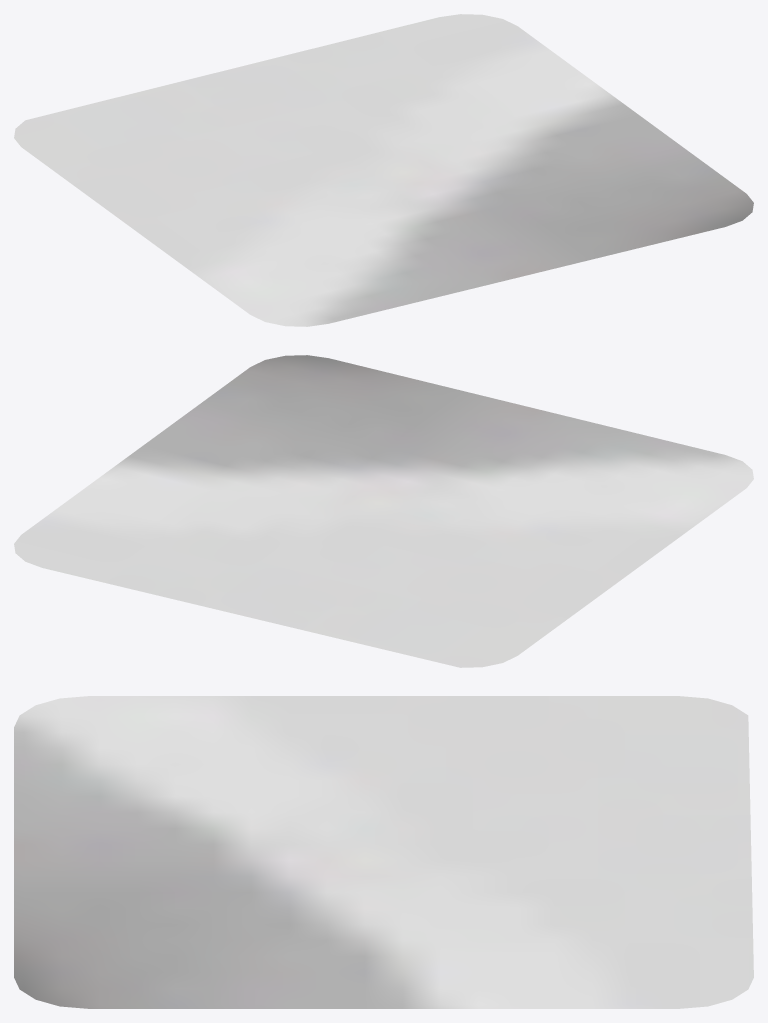
The model's file is Prop_Grid.fbx.
3 renders of one model, top to bottom at view 1: azimuth 30°, elevation 25°; view 2: azimuth 150°, elevation 25°; view 3: azimuth 270°, elevation 25°, orthographic. The views are drawn at different scales.
Parts seen in each view (by area): view 1: Prop_Grid.001; view 2: Prop_Grid.001; view 3: Prop_Grid.001.
Boxes of the visible parts, x1,y1,x2,y2 form: Prop_Grid.001: (14,14,753,326); Prop_Grid.001: (14,355,753,667); Prop_Grid.001: (14,696,753,1008).
Size of the model in its own units: 99 by 7.47e-06 by 99.
1 material, 1 textured.
